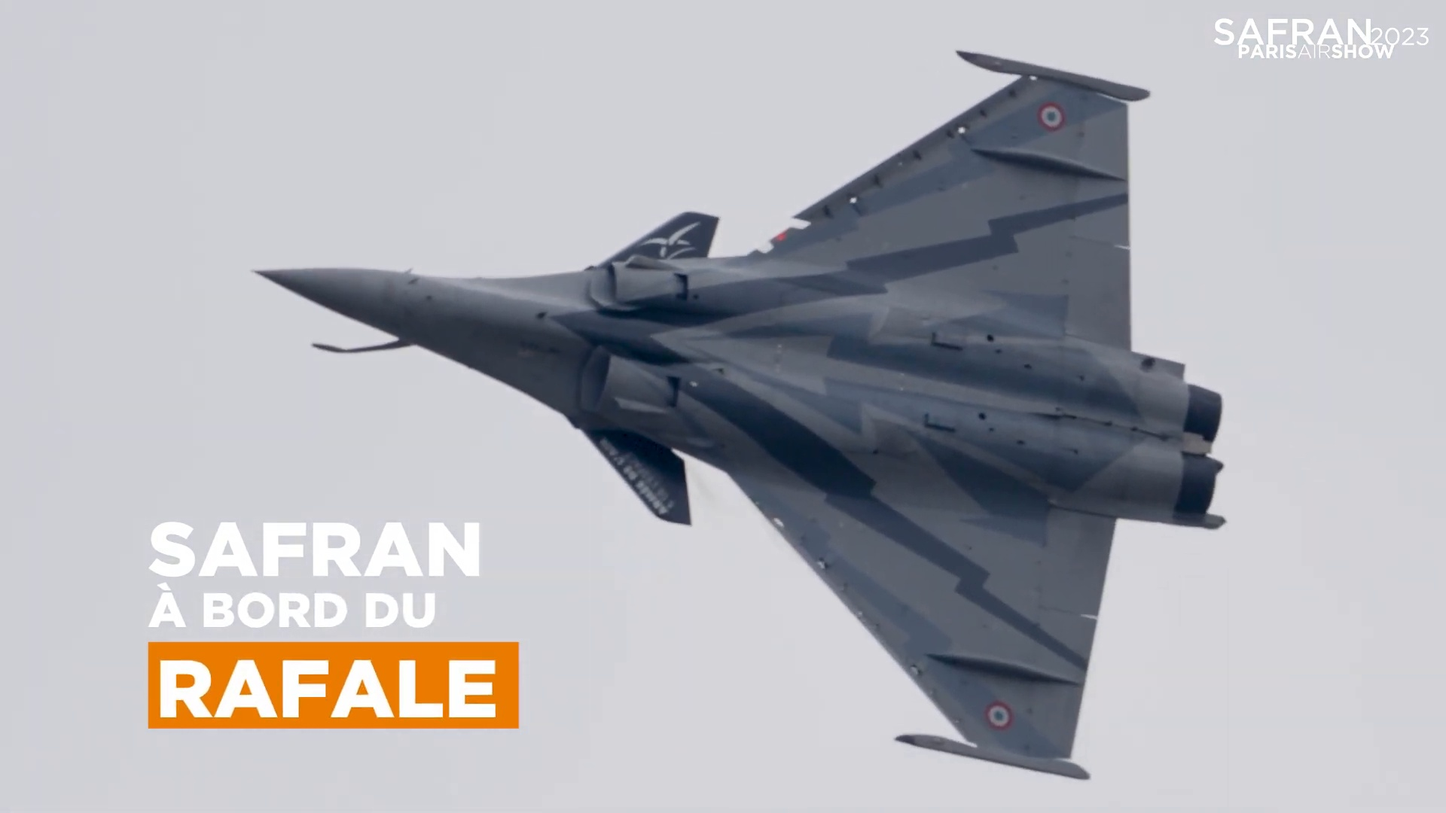Rafale: (252, 50, 1221, 780)
